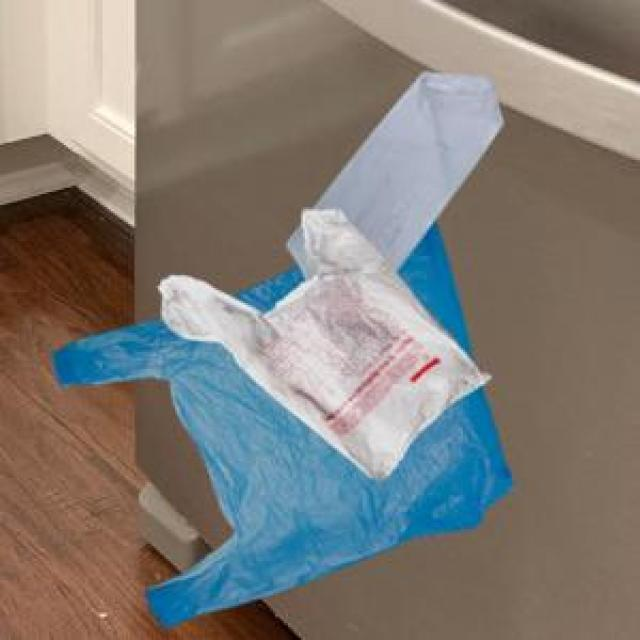waste: (54, 72, 510, 626)
